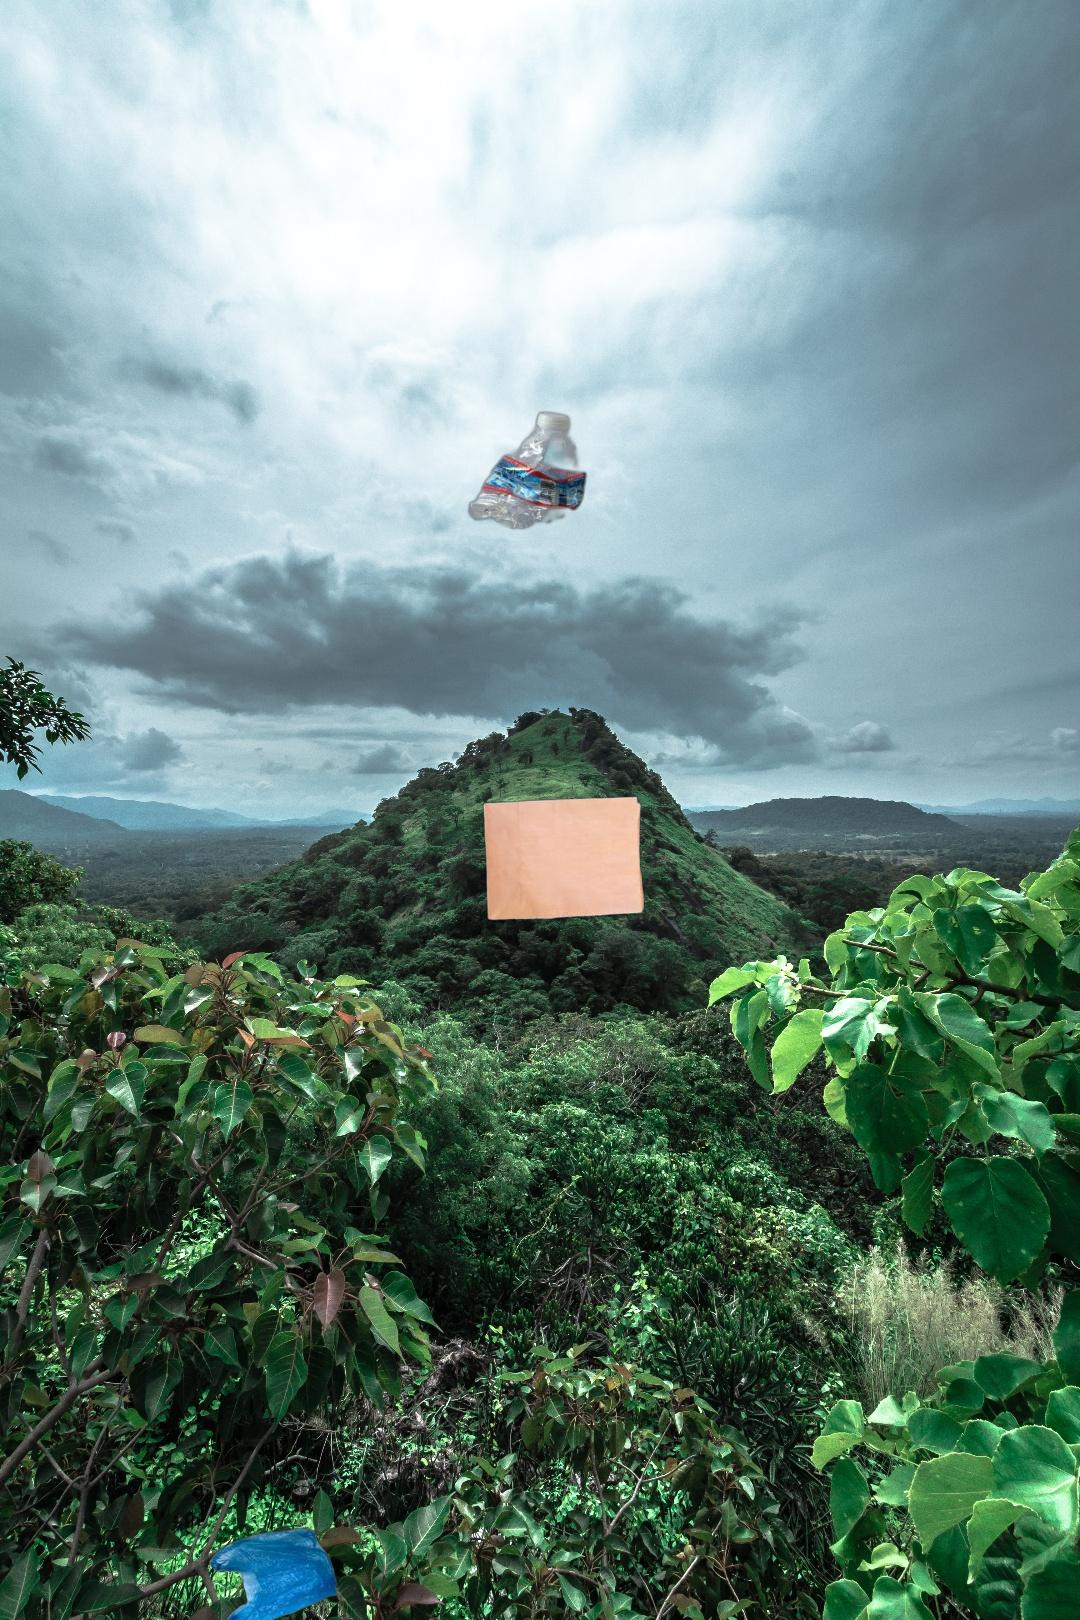paper-bag: (480, 794, 647, 923)
plastic-bag: (206, 1525, 353, 1620)
plastic-bottles: (464, 407, 591, 532)
